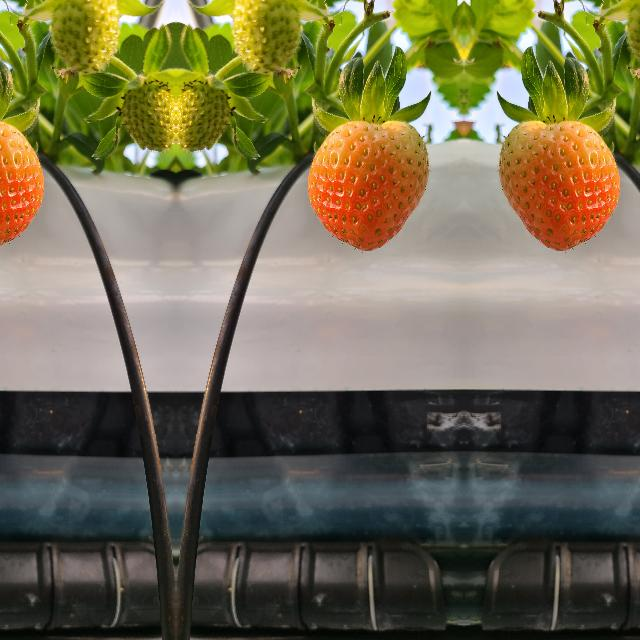Health_25: (175, 71, 235, 159), (115, 71, 175, 159), (230, 1, 300, 73), (50, 1, 120, 73), (626, 1, 640, 73)
Health_75: (306, 120, 430, 252), (496, 120, 620, 252), (0, 119, 44, 252)
